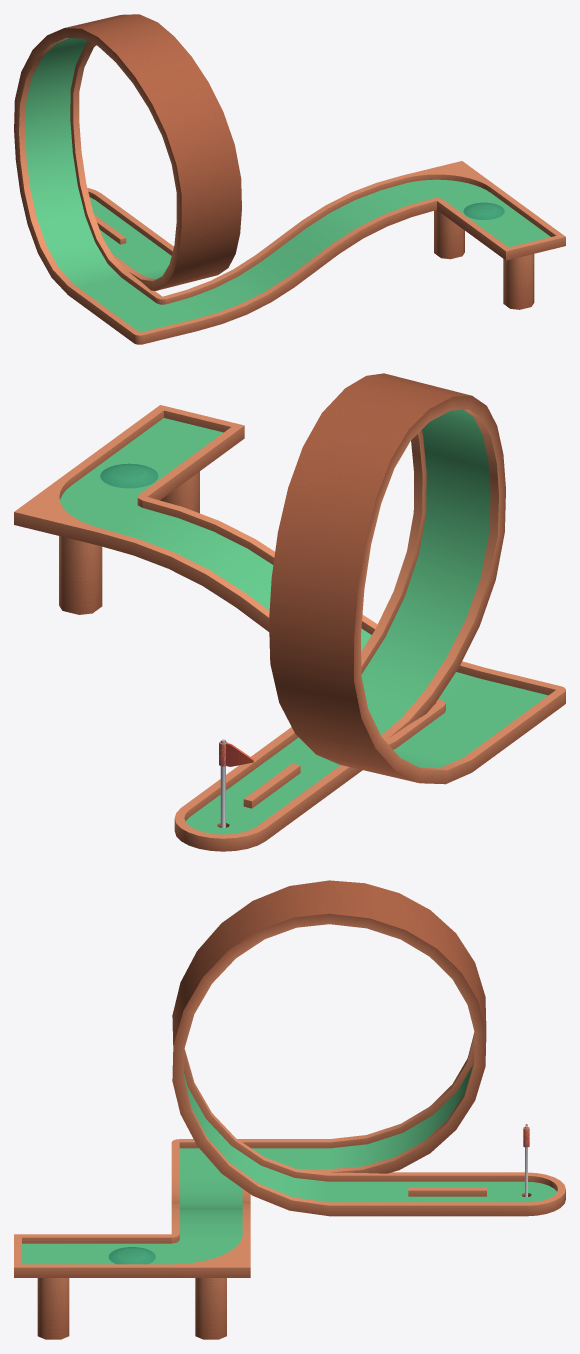
File: hole3.glb
3 renders of one model, top to bottom at view 1: azimuth 30°, elevation 25°; view 2: azimuth 150°, elevation 25°; view 3: azimuth 270°, elevation 25°, orthographic. The views are drawn at different scales.
Parts seen in each view (by area): view 1: hole2; view 2: hole2; view 3: hole2.
Boxes of the visible parts, bbox=[...] form: hole2: bbox=[14, 14, 565, 344]; hole2: bbox=[14, 373, 565, 851]; hole2: bbox=[14, 880, 565, 1339].
Size of the model in its own units: 6 by 4 by 7.
13 materials, 13 textured.
